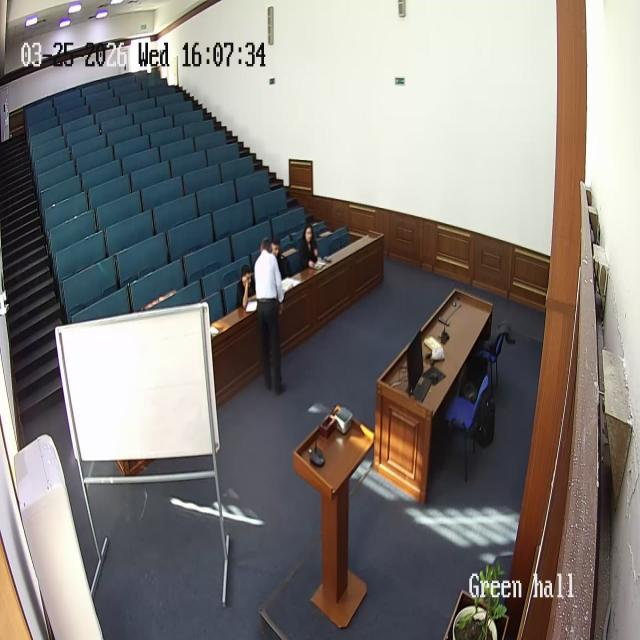person: (253, 234, 287, 394), (299, 223, 321, 271), (236, 262, 256, 310), (270, 238, 290, 280)
